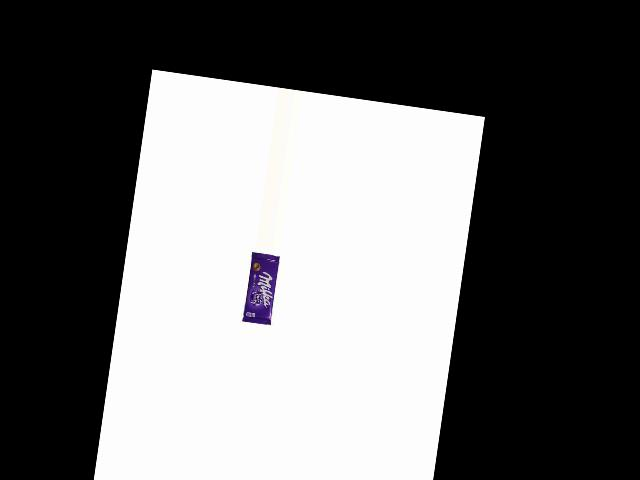chocolate: (238, 251, 281, 329)
